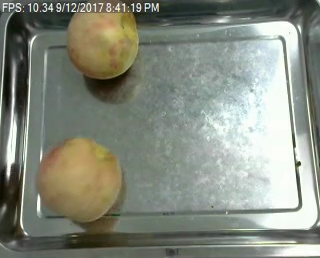Peach: (37, 136, 122, 223), (66, 1, 140, 79)
